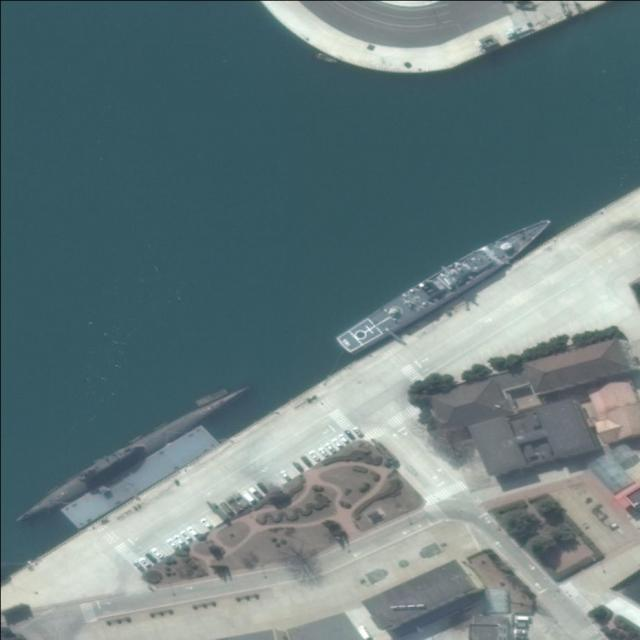Auxiliary Ships: (333, 208, 557, 361)
Submarine: (5, 374, 261, 535)
